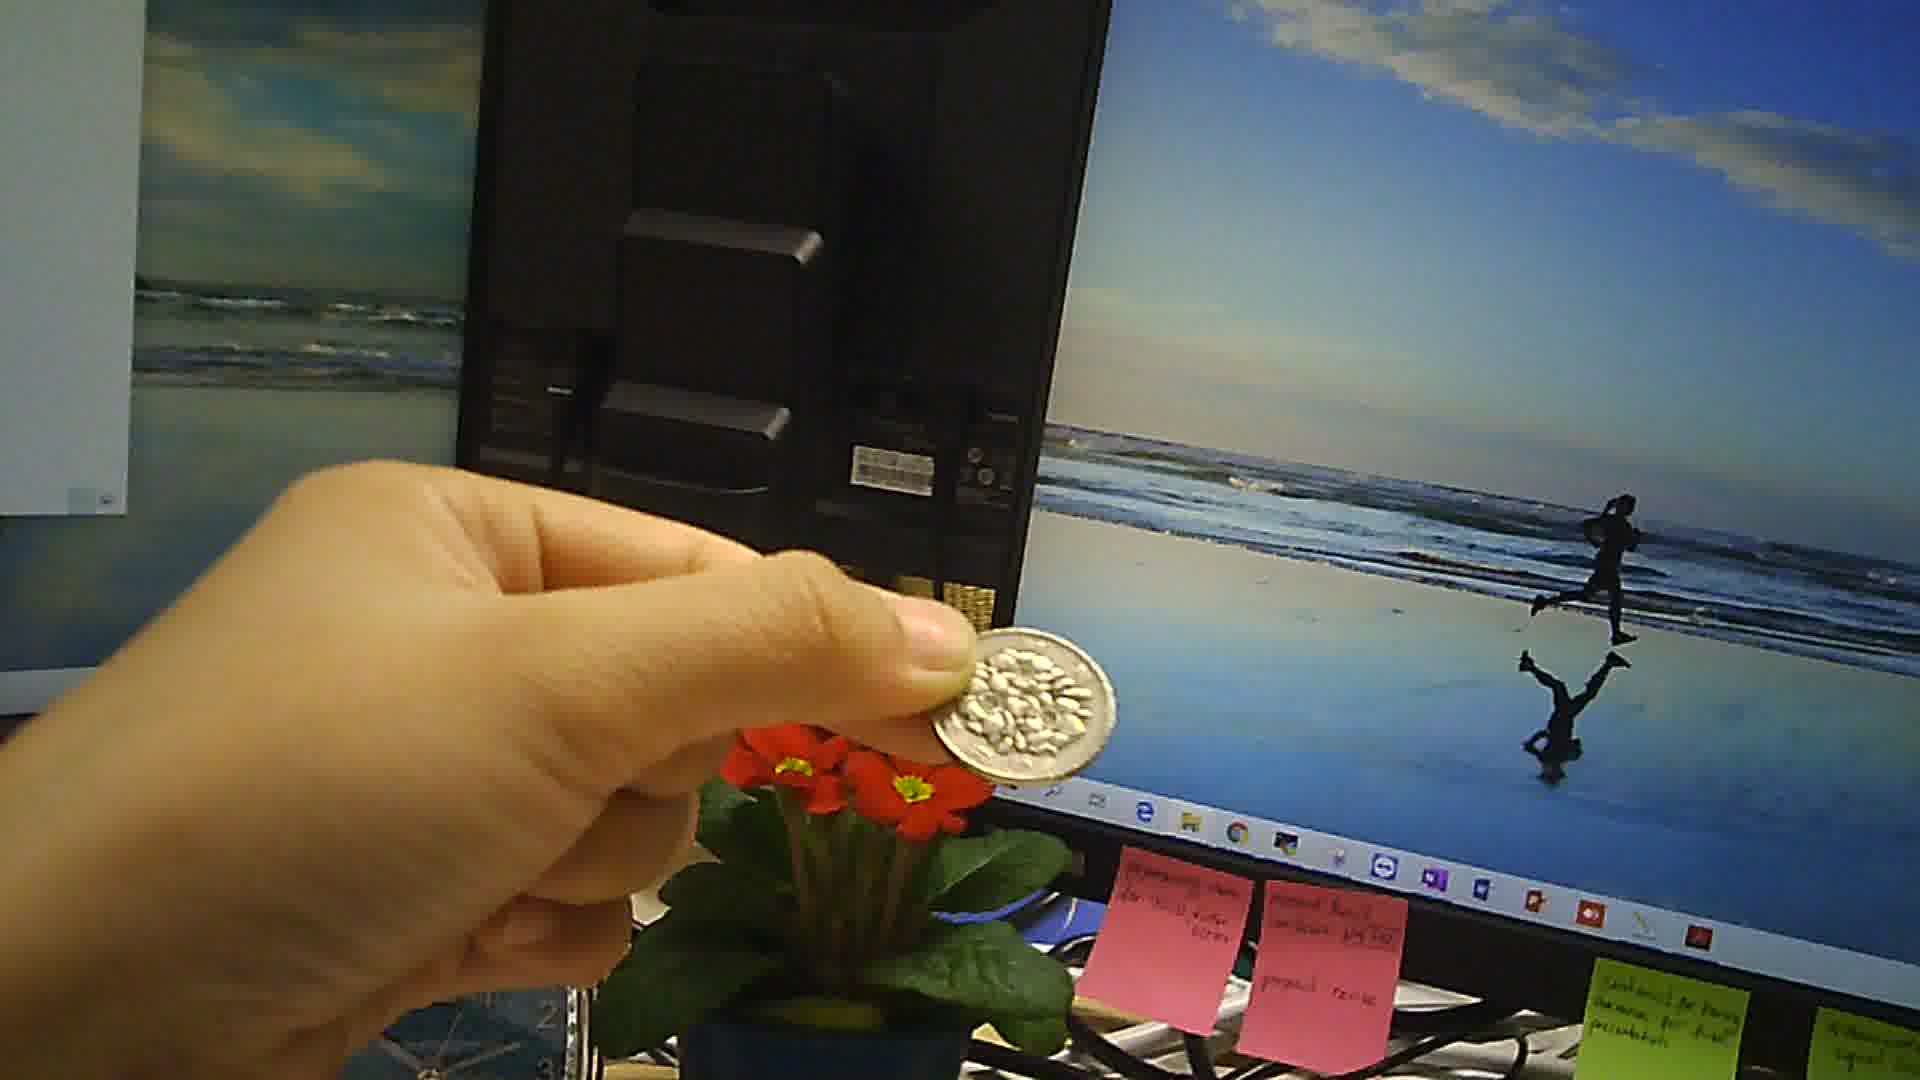100 Yen: (920, 615, 1124, 785)
